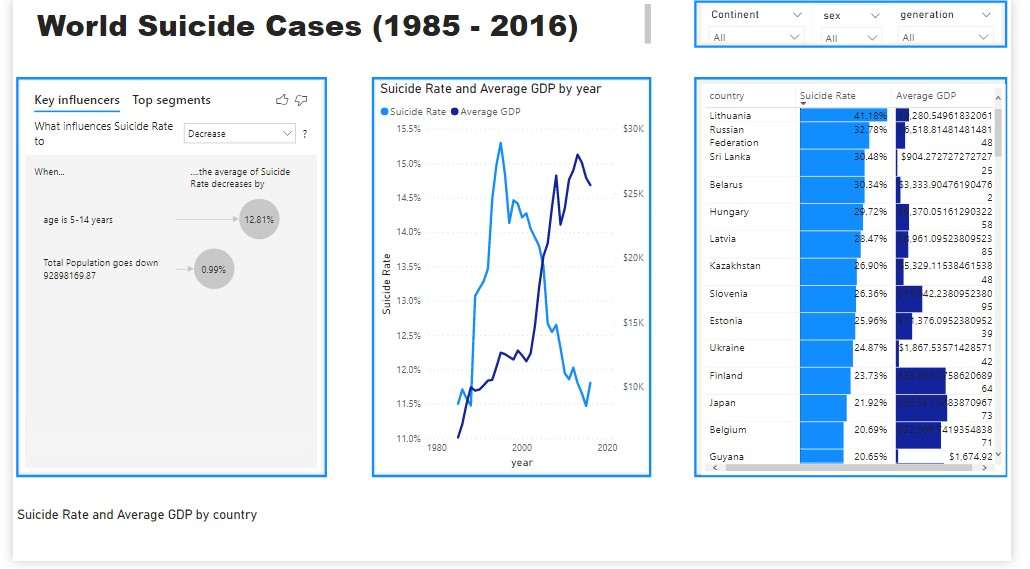

The dashboard page shown, as its layout file describes it:
{"tool":"powerbi","page":{"name":"Page 2","canvas":[1280,720],"ordinal":1},"visuals":[{"type":"basicShape","box":[870.1,94.1,409.9,524.1],"z":0},{"type":"basicShape","box":[456.9,94.1,366.2,524.1],"z":1000},{"type":"basicShape","box":[0,94.1,406.5,524.1],"z":2000},{"type":"basicShape","box":[870.1,0,409.9,62.2],"z":4000},{"type":"lineChart","fields":{"Y":["Key Measure.Suicide Rate"],"Y2":["Key Measure.Average GDP"],"Category":["Year.year"]},"box":[465.3,104.1,349.4,502.3],"z":5000},{"type":"slicer","fields":{"Values":["master.Continent"]},"box":[883.6,5,142.8,48.7],"z":6000},{"type":"slicer","fields":{"Values":["master.sex"]},"box":[1026.4,6.7,99.1,48.7],"z":7000},{"type":"slicer","fields":{"Values":["master.generation"]},"box":[1125.5,5,142.8,48.7],"z":8000},{"type":"image","box":[653.8,5.6,73.3,49.3],"z":9000},{"type":"textbox","box":[25.2,0,797.9,62.2],"z":10000},{"type":"tableEx","fields":{"Values":["Countries.country","Key Measure.Suicide Rate","Key Measure.Average GDP"]},"box":[883.6,107.5,391.4,502.3],"z":11000},{"type":"keyDriversVisual","fields":{"ExplainBy":["Key Measure.Average GDP","Key Measure.Total Population","master.age"],"Target":["Key Measure.Suicide Rate"],"Details":["Countries.country","master.generation"]},"box":[10.1,104.1,384.7,502.3],"z":12000},{"type":"ScrollingTextVisual1448795304508","fields":{"Category":["Countries.country"],"Measure Absolute":["Key Measure.Suicide Rate"],"Measure Deviation":["Key Measure.Average GDP"]},"box":[0,650.1,1280,70.6],"z":13000}]}

Visuals, with their boxes in screenshot pixels (x1, y1, x2, y2), scaled from the page's 1280x720 canvas onto the 1030x569 screenshot:
basicShape: 700 74 1029 489
basicShape: 368 74 662 489
basicShape: 0 74 327 489
basicShape: 700 0 1029 49
lineChart - Key Measure.Suicide Rate x Key Measure.Average GDP: 374 82 656 479
slicer - master.Continent: 711 4 826 42
slicer - master.sex: 826 5 906 44
slicer - master.generation: 906 4 1021 42
image: 526 4 585 43
textbox: 20 0 662 49
tableEx - Countries.country x Key Measure.Suicide Rate: 711 85 1026 482
keyDriversVisual - Key Measure.Average GDP x Key Measure.Total Population: 8 82 318 479
ScrollingTextVisual1448795304508 - Countries.country x Key Measure.Suicide Rate: 0 514 1029 568
